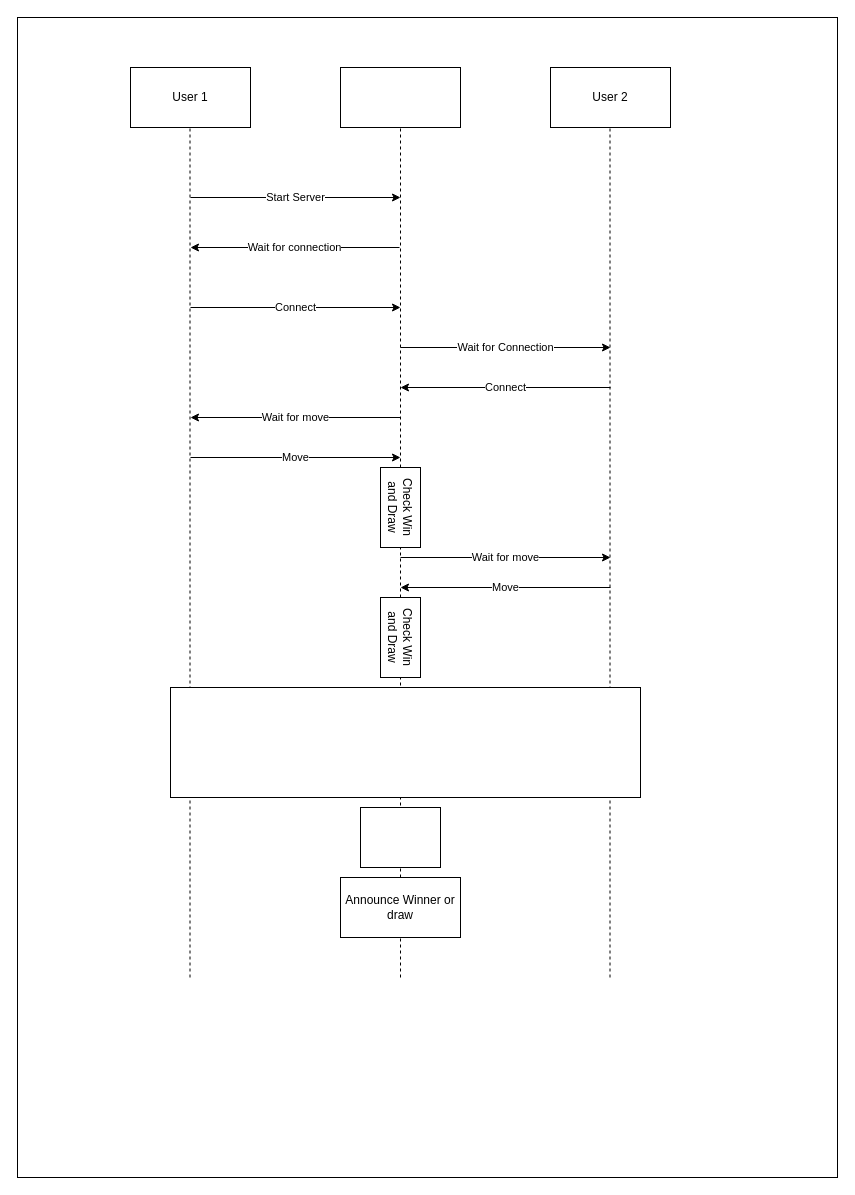
Some shapes in this 855 by 1195 pixel diagram are drawn without their labels. The box of each missing label's shape, as (x1, y1, x2, y2) in pixels:
Repeat: (170, 686, 640, 798)
Server: (340, 66, 460, 128)
Win or draw condition met: (360, 806, 440, 868)
